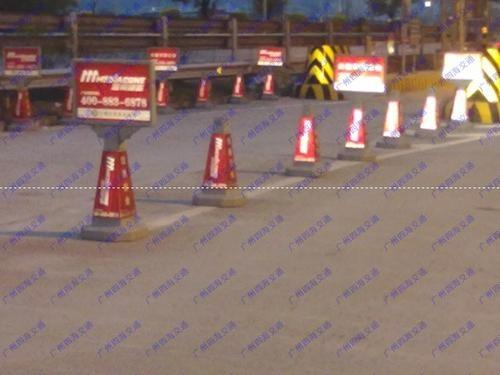cone_barrel: (81, 128, 140, 228), (193, 114, 242, 192), (287, 110, 322, 167), (341, 101, 367, 149), (416, 84, 440, 133), (379, 97, 403, 140)
